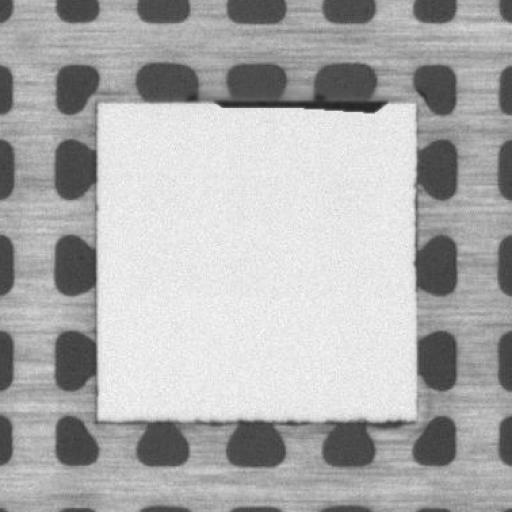DIE_BROKEN: (212, 92, 388, 113)
